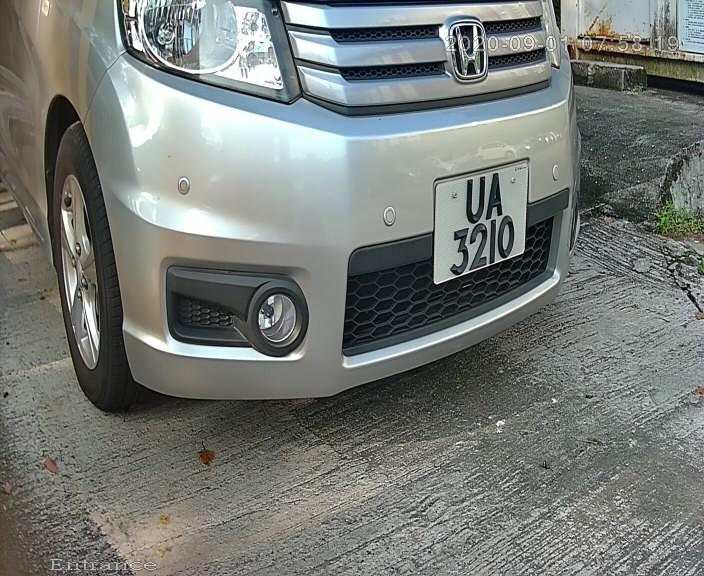License Plate: (428, 145, 535, 296)
